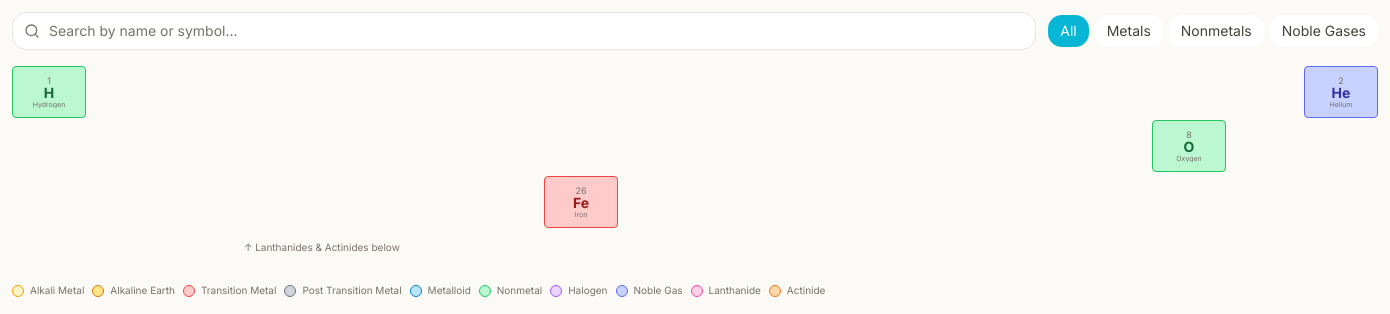
it: PeriodicTable › filters elements when searching by name
In the field named "Search elements": (524, 31) [12,12,1036,50], type "Oxygen"
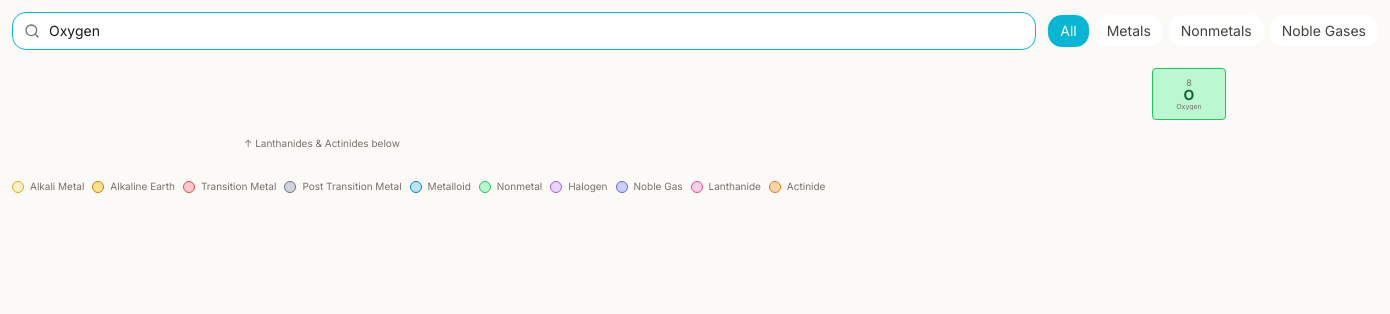
Expected: the text "O" is shown, [1184,87,1194,103]
Result: the button "He" is gone
Result: the button "Fe" is gone
